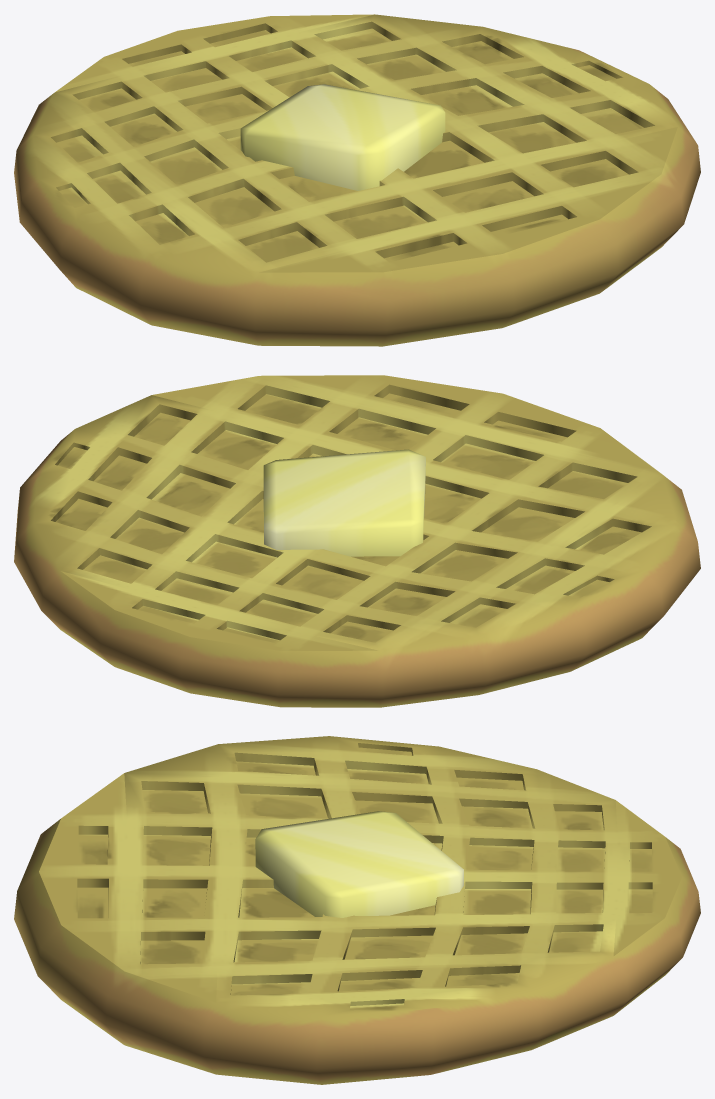
Rendered from Waffle.fbx.
The picture shows the model from 3 angles, top to bottom: view 1: azimuth 30°, elevation 25°; view 2: azimuth 150°, elevation 25°; view 3: azimuth 270°, elevation 25°; orthographic projection.
Visible parts, largest first — view 1: Waffle; view 2: Waffle; view 3: Waffle.
Part boxes in pixels (x1,y1,x2,y2): Waffle: (14,14,700,346); Waffle: (14,375,700,707); Waffle: (14,736,700,1084).
Size of the model in its own units: 29.44 by 4.81 by 28.57.
